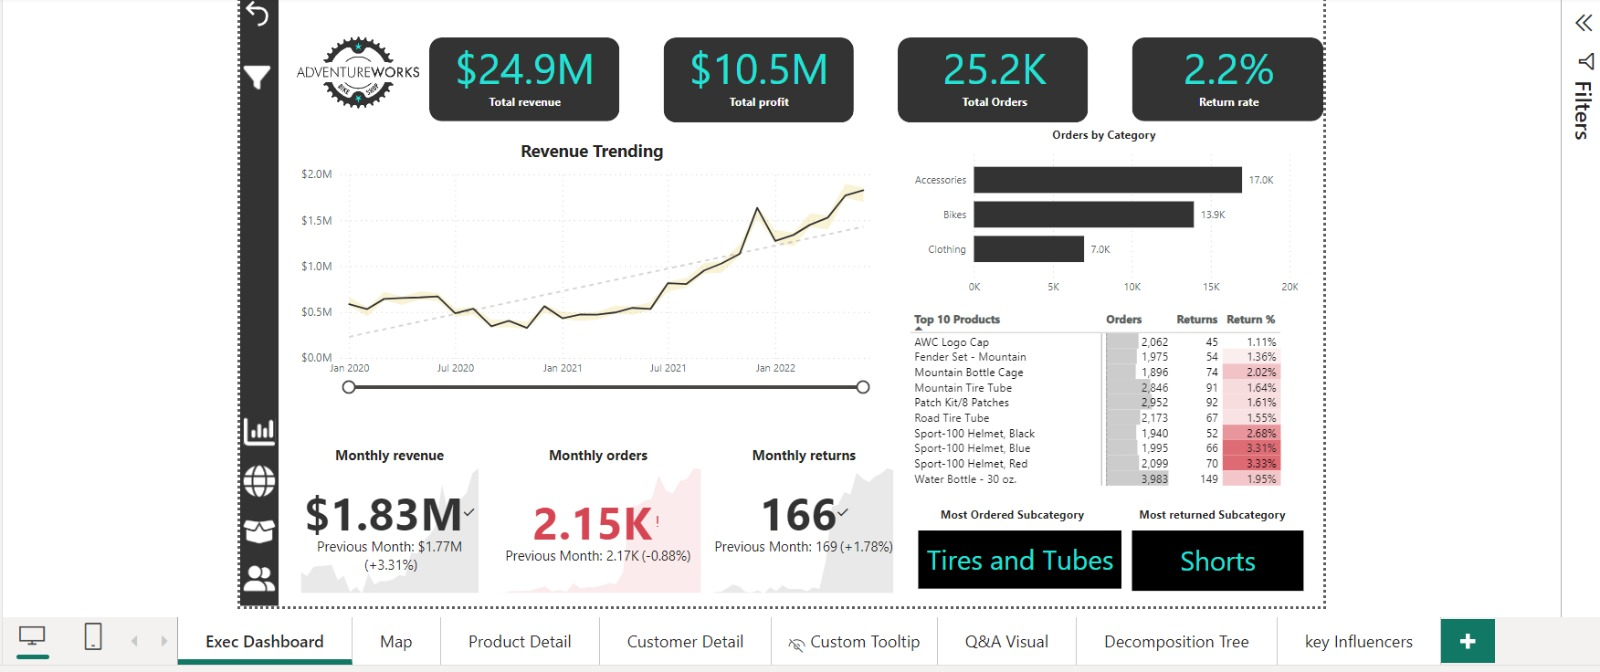

This screenshot's page, from the dashboard's own definition file:
{"tool":"powerbi","page":{"name":"Exec Dashboard","canvas":[1280,720],"ordinal":0},"visuals":[{"type":"image","title":"AW Logo","box":[44.8,0,188.5,180.6],"z":0},{"type":"shape","box":[222.8,47.5,224.9,99.1],"z":0,"group":"g2"},{"type":"shape","title":"Rectangle NV bar","box":[0,0,45.4,720],"z":1000},{"type":"shape","box":[499.6,47.5,224.9,100.6],"z":1000,"group":"g2"},{"type":"group","id":"g1","title":"KPI","box":[222.8,36.9,1056.7,111.2],"z":2000},{"type":"group","id":"g2","title":"KPI Background","box":[222.8,47.5,1056.7,100.6],"z":2000,"group":"g1"},{"type":"shape","box":[776.3,47.5,224.9,100.6],"z":2000,"group":"g2"},{"type":"card","fields":{"Values":["Measure Table.Total revenue"]},"box":[246.5,36.9,176.6,108.1],"z":3000,"group":"g3"},{"type":"lineChart","title":"Revenue Trending","fields":{"Y":["Measure Table.Total revenue"],"Category":["Calendar Lookup.Start of Month"]},"box":[66.4,168.5,698.3,304.6],"z":3000},{"type":"card","fields":{"Values":["Measure Table.Total profit"]},"box":[523.8,36.9,176.6,108.1],"z":4000,"group":"g3"},{"type":"shape","box":[1053.1,47.5,226.4,99.1],"z":4000,"group":"g2"},{"type":"kpi","title":"Monthly revenue","fields":{"Indicator":["Measure Table.Total revenue"],"TrendLine":["Calendar Lookup.Start of Month"],"Goal":["Measure Table.Previous Month Revenue"]},"box":[65.9,529.9,220.1,179.3],"z":4000},{"type":"card","fields":{"Values":["Measure Table.Return rate"]},"box":[1078.3,36.9,176.6,108.1],"z":5000,"group":"g3"},{"type":"kpi","title":"Monthly orders","fields":{"TrendLine":["Calendar Lookup.Start of Month"],"Indicator":["Measure Table.Total Orders"],"Goal":["Measure Table.Previous month orders"]},"box":[296.6,529.9,253.1,179.3],"z":5000},{"type":"card","fields":{"Values":["Measure Table.Total Orders"]},"box":[801,36.9,176.6,108.1],"z":6000,"group":"g3"},{"type":"kpi","title":"Monthly returns","fields":{"TrendLine":["Calendar Lookup.Start of Month"],"Indicator":["Measure Table.Total returns"],"Goal":["Measure Table.Previous month return"]},"box":[555,529.9,221.5,179.3],"z":6000},{"type":"group","id":"g3","title":"KPI Cards","box":[246.5,36.9,1008.4,108.1],"z":6001,"group":"g1"},{"type":"barChart","title":"Orders by Category","fields":{"Category":["Product Category Lookup.CategoryName"],"Y":["Measure Table.Total Orders"]},"box":[787,152.9,468,207],"z":7000},{"type":"pivotTable","fields":{"Values":["Measure Table.Total Orders","Measure Table.Total returns","Measure Table.Return rate"],"Rows":["Product Lookup.ProductName"]},"box":[787,366.5,468,218.8],"z":8000},{"type":"card","fields":{"Values":["Min(Product Subcategory Lookup.SubcategoryName)"]},"box":[801.5,631.4,239.9,68.5],"z":9000},{"type":"textbox","box":[822.6,597.2,199.1,34.3],"z":10000},{"type":"card","fields":{"Values":["Min(Product Subcategory Lookup.SubcategoryName)"]},"box":[1053.6,631.7,202.4,71.1],"z":11000},{"type":"textbox","box":[1055.9,597.2,199.1,34.3],"z":12000},{"type":"actionButton","box":[0,0,100,40],"z":13000},{"type":"actionButton","box":[0,549.3,45.2,45.2],"z":14000},{"type":"actionButton","box":[0,665.8,45.2,45.2],"z":15000},{"type":"actionButton","box":[0,609.6,45.2,45.2],"z":16000},{"type":"actionButton","box":[0,491.8,45.2,45.2],"z":17000},{"type":"actionButton","box":[0,76.7,45.2,39.7],"z":18000}]}

Visuals, with their boxes on the page's 1280x720 design canvas (x1, y1, x2, y2). These are canvas units, not pixel positions in the 1600x672 screenshot, which may show the page scaled, cropped or inside an application window:
"AW Logo" image: box=[45, 0, 233, 181]
shape: box=[223, 48, 448, 147]
"Rectangle NV bar" shape: box=[0, 0, 45, 720]
shape: box=[500, 48, 724, 148]
"KPI" group: box=[223, 37, 1280, 148]
"KPI Background" group: box=[223, 48, 1280, 148]
shape: box=[776, 48, 1001, 148]
card - Measure Table.Total revenue: box=[246, 37, 423, 145]
"Revenue Trending" lineChart: box=[66, 168, 765, 473]
card - Measure Table.Total profit: box=[524, 37, 700, 145]
shape: box=[1053, 48, 1280, 147]
"Monthly revenue" kpi: box=[66, 530, 286, 709]
card - Measure Table.Return rate: box=[1078, 37, 1255, 145]
"Monthly orders" kpi: box=[297, 530, 550, 709]
card - Measure Table.Total Orders: box=[801, 37, 978, 145]
"Monthly returns" kpi: box=[555, 530, 776, 709]
"KPI Cards" group: box=[246, 37, 1255, 145]
"Orders by Category" barChart: box=[787, 153, 1255, 360]
pivotTable - Measure Table.Total Orders x Measure Table.Total returns: box=[787, 366, 1255, 585]
card - Min(Product Subcategory Lookup.SubcategoryName): box=[802, 631, 1041, 700]
textbox: box=[823, 597, 1022, 632]
card - Min(Product Subcategory Lookup.SubcategoryName): box=[1054, 632, 1256, 703]
textbox: box=[1056, 597, 1255, 632]
actionButton: box=[0, 0, 100, 40]
actionButton: box=[0, 549, 45, 594]
actionButton: box=[0, 666, 45, 711]
actionButton: box=[0, 610, 45, 655]
actionButton: box=[0, 492, 45, 537]
actionButton: box=[0, 77, 45, 116]
